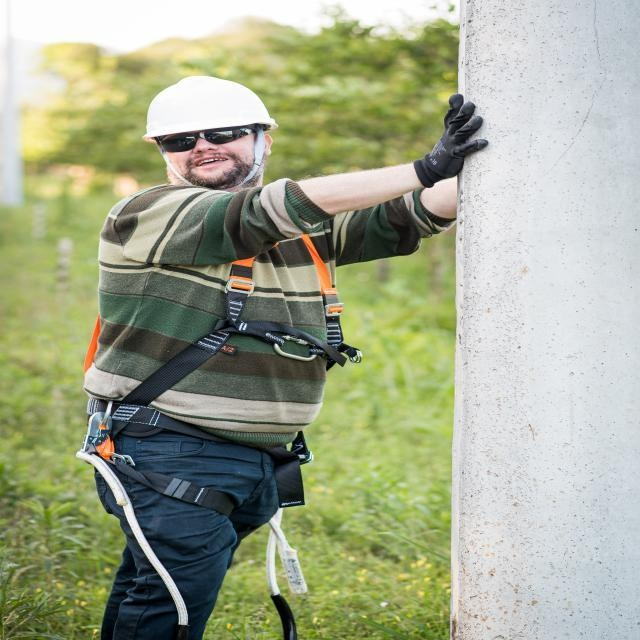Arnes_seguridad: (76, 187, 370, 542)
